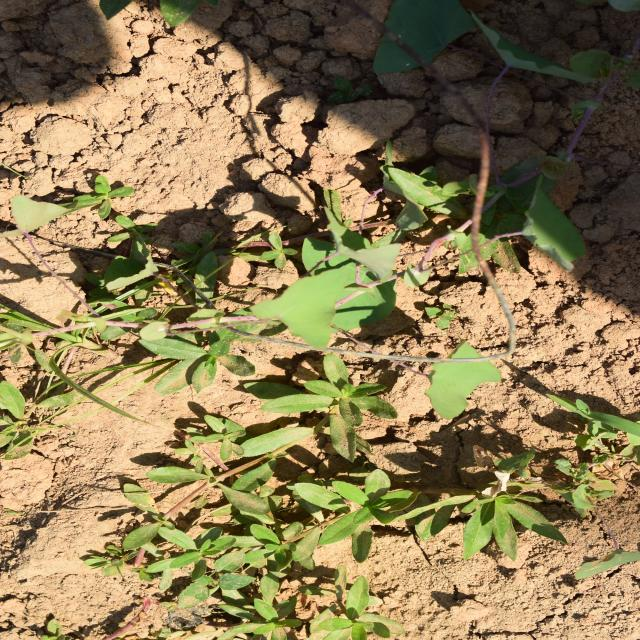Asiatic_Smartweed: (288, 243, 441, 420)
